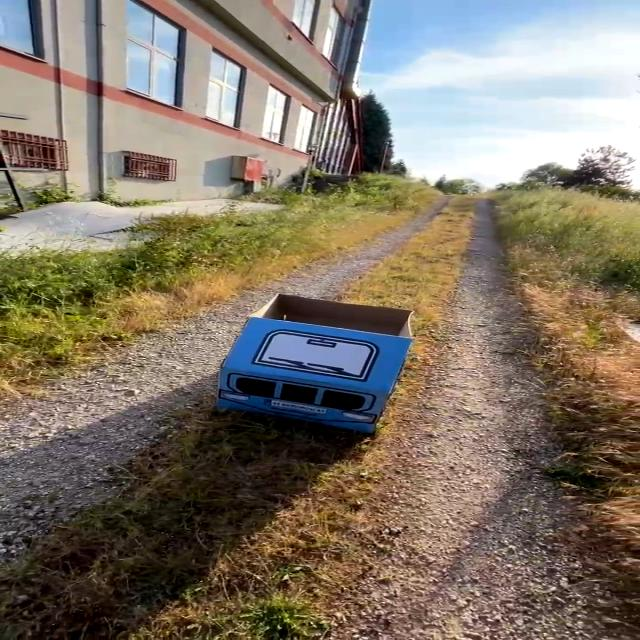blue_car: (139, 274, 441, 469)
